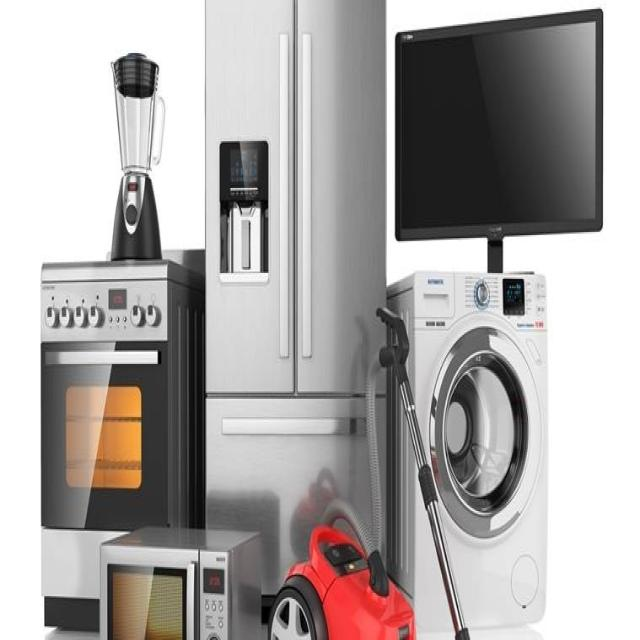E-waste: (8, 19, 640, 638)
